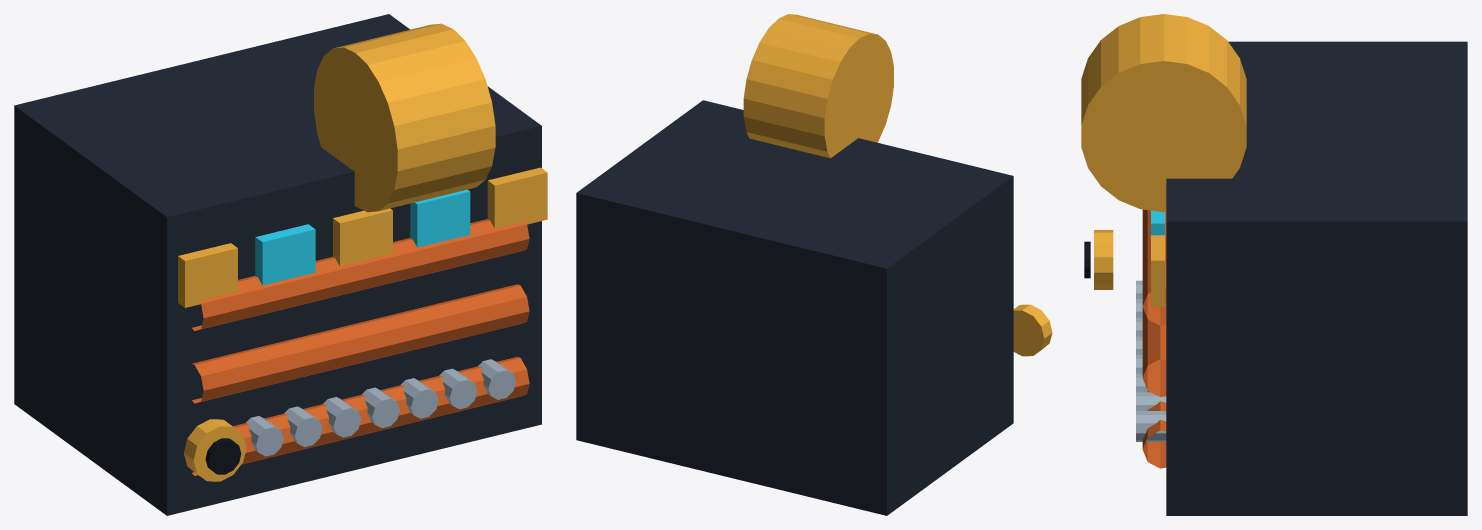
Rendered from 57_L86_ThermalLoopPumpSimulator.fbx.
3 views of the same model, side by side, from view 1: azimuth 30°, elevation 25°; view 2: azimuth 150°, elevation 25°; view 3: azimuth 270°, elevation 25° (orthographic). The views are drawn at different scales.
Visible parts, largest first — view 1: L86_ThermalLoopPumpSimulator, L86_ThermalLoopPumpSimulator_Part_0005, L86_ThermalLoopPumpSimulator_Part_0004, L86_ThermalLoopPumpSimulator_Part_0006, L86_ThermalLoopPumpSimulator_Part_0007; view 2: L86_ThermalLoopPumpSimulator, L86_ThermalLoopPumpSimulator_Part_0004, L86_ThermalLoopPumpSimulator_Part_0006; view 3: L86_ThermalLoopPumpSimulator, L86_ThermalLoopPumpSimulator_Part_0004, L86_ThermalLoopPumpSimulator_Part_0005, L86_ThermalLoopPumpSimulator_Part_0006.
Part boxes in pixels (x1,y1,x2,y2): L86_ThermalLoopPumpSimulator: [14, 14, 547, 515]; L86_ThermalLoopPumpSimulator_Part_0005: [192, 219, 529, 475]; L86_ThermalLoopPumpSimulator_Part_0004: [314, 23, 495, 212]; L86_ThermalLoopPumpSimulator_Part_0006: [183, 419, 246, 481]; L86_ThermalLoopPumpSimulator_Part_0007: [205, 438, 241, 474]; L86_ThermalLoopPumpSimulator: [576, 100, 1013, 515]; L86_ThermalLoopPumpSimulator_Part_0004: [743, 14, 893, 158]; L86_ThermalLoopPumpSimulator_Part_0006: [1013, 304, 1052, 356]; L86_ThermalLoopPumpSimulator: [1136, 41, 1467, 515]; L86_ThermalLoopPumpSimulator_Part_0004: [1081, 14, 1246, 212]; L86_ThermalLoopPumpSimulator_Part_0005: [1142, 209, 1166, 468]; L86_ThermalLoopPumpSimulator_Part_0006: [1094, 230, 1113, 289].
Bounding box in the file's own units: 94.5 × 98 × 83.32.
